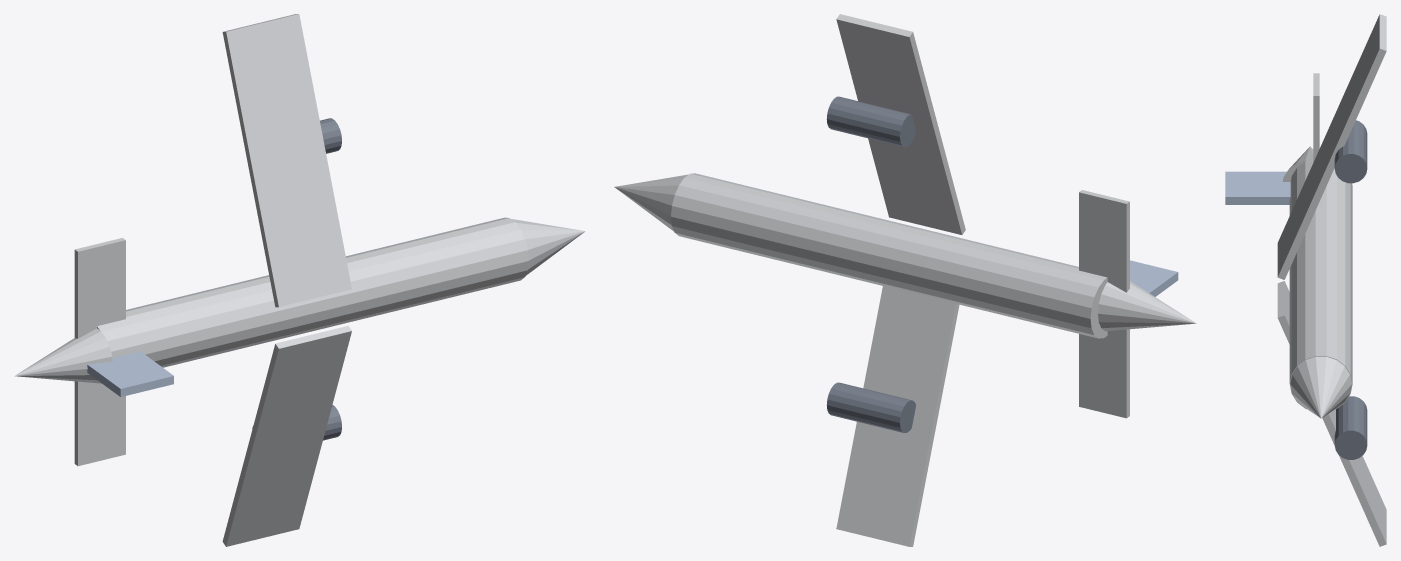
The model's file is regional.glb.
3 renders of one model, left to right at view 1: azimuth 30°, elevation 25°; view 2: azimuth 150°, elevation 25°; view 3: azimuth 270°, elevation 25°, orthographic. The views are drawn at different scales.
Parts seen in each view (by area): view 1: body, fin, engines; view 2: body, engines, fin; view 3: body, engines, fin.
Part boxes in pixels (box(x1,y1,x2,y2)): body: box(14, 14, 585, 546); fin: box(87, 351, 173, 396); engines: box(252, 118, 341, 440); body: box(614, 14, 1196, 546); engines: box(826, 96, 915, 432); fin: box(1130, 260, 1178, 296); body: box(1277, 14, 1386, 546); engines: box(1334, 120, 1367, 459); fin: box(1225, 171, 1290, 204).
Size of the model in its own units: 30.76 by 26.23 by 7.7.
